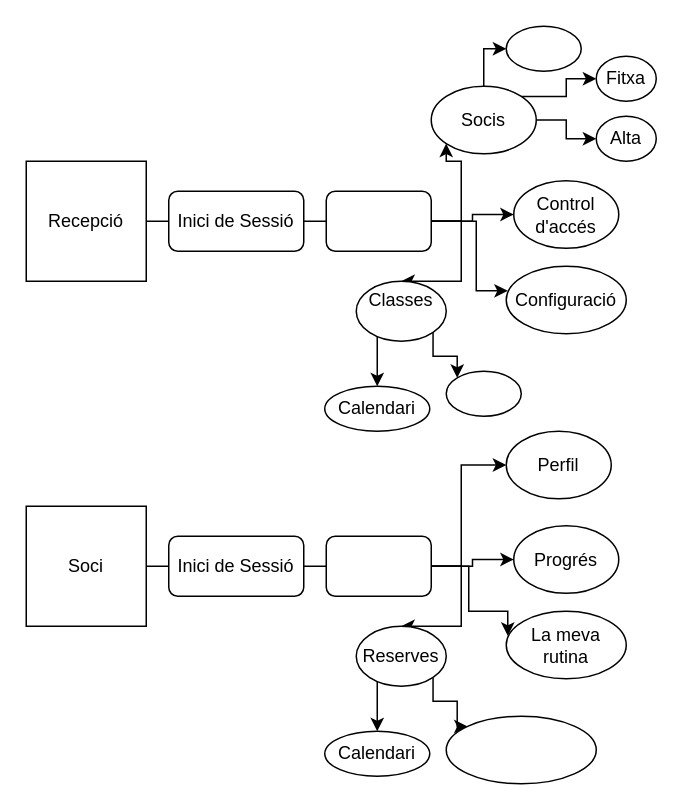
The diagram is 683 pixels wide and 810 high, and some of its shapes have lost their labels. Here are the shapes that lost their labels. From the top down, the centre of each, then its label:
At point 543,48: "Llista".
At point 378,220: "Tauler".
At point 483,393: "Detall".
At point 378,565: "Inici".
At point 520,749: "Les meves reserves".
